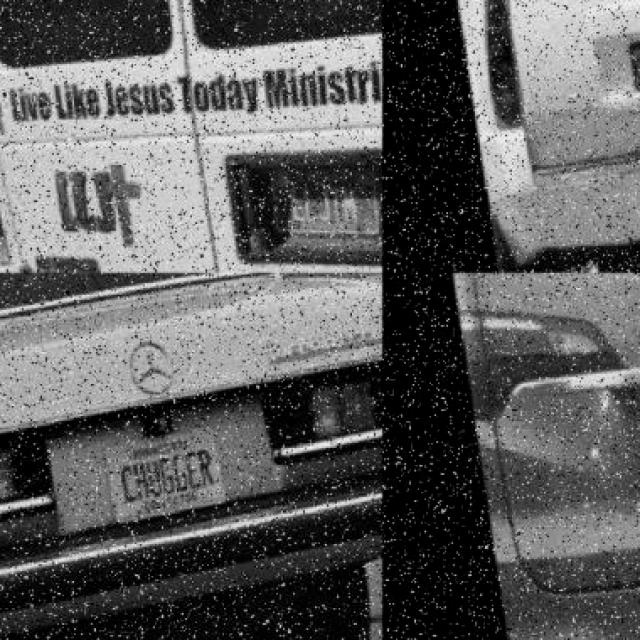licenseplate: (94, 430, 222, 528), (265, 167, 373, 244), (621, 34, 640, 93)
